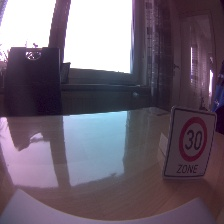dreisiger_zone: (162, 106, 216, 181)
